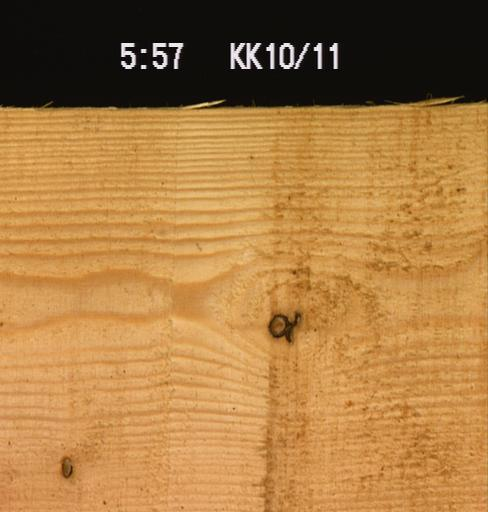dry_knot: (59, 453, 74, 479)
